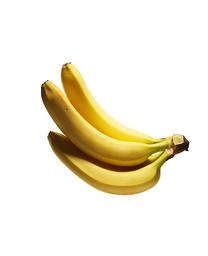banana: (41, 62, 190, 195)
